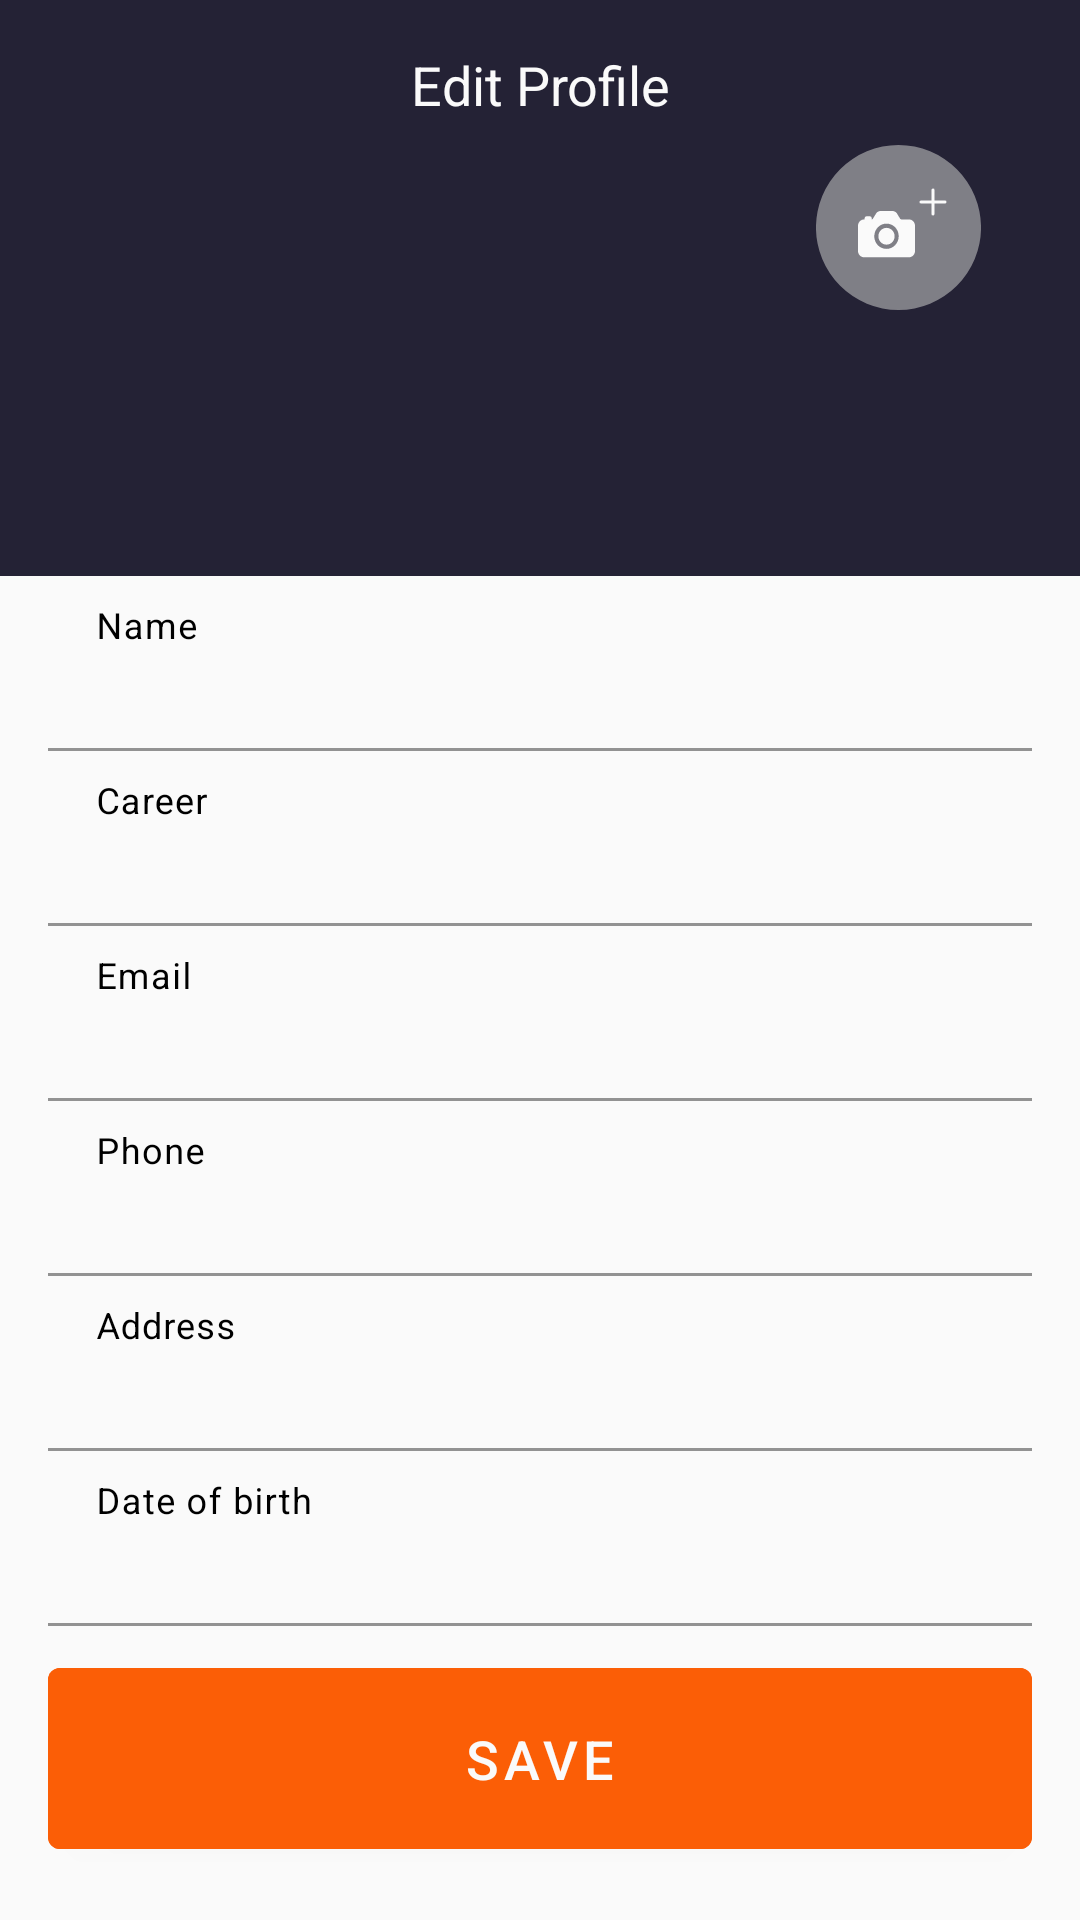

Point at icon controls on the screen. Image size 1080 x 1920, points as (x,y).
camera: (898,227)
